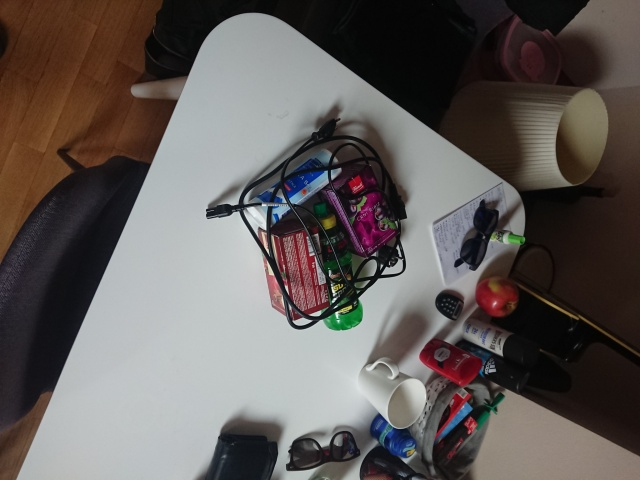Franck Apple Cinnamon Tea 60g: (255, 216, 334, 323)
Franck Black Currant Tea 60g: (316, 159, 403, 262)
Solana Pag Fine Sea Salt 250g: (243, 146, 344, 232)
Vindi Iso Sport Lemon-Grapefruit 500mL: (306, 200, 365, 332)
